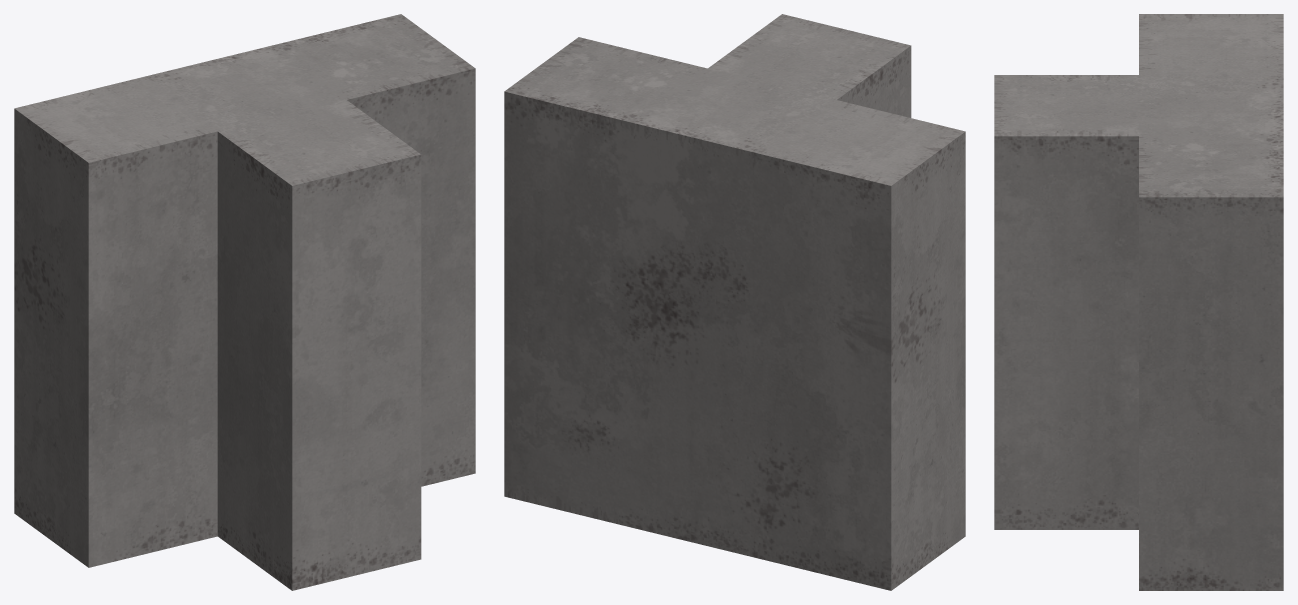
Rendered from T Corner.fbx.
3 views of the same model, side by side, from view 1: azimuth 30°, elevation 25°; view 2: azimuth 150°, elevation 25°; view 3: azimuth 270°, elevation 25° (orthographic). The views are drawn at different scales.
Visible parts, largest first — view 1: T_Corner_3x2; view 2: T_Corner_3x2; view 3: T_Corner_3x2.
Boxes of the visible parts, x1,y1,x2,y2 form: T_Corner_3x2: [14, 14, 475, 590]; T_Corner_3x2: [504, 14, 965, 590]; T_Corner_3x2: [994, 14, 1283, 590].
Size of the model in its own units: 3 by 3 by 2.
